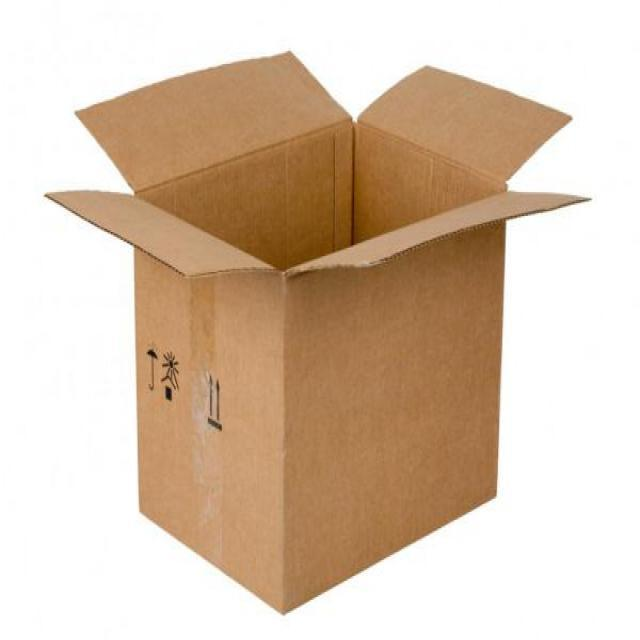box: (48, 42, 556, 622)
